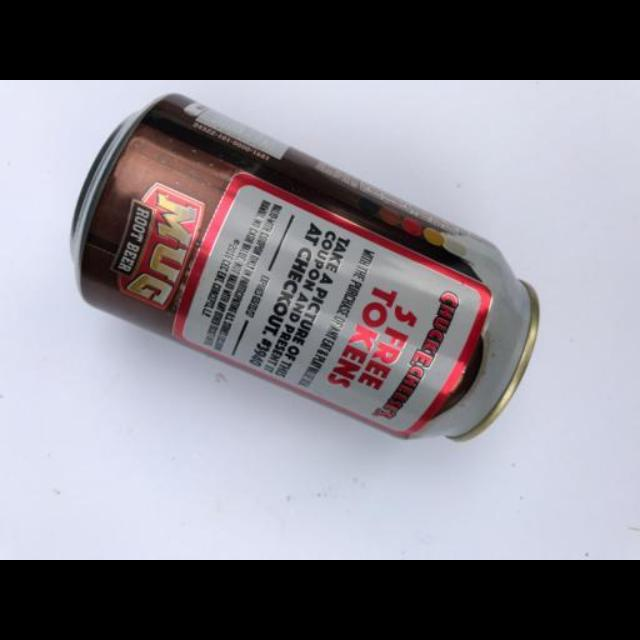lata: (70, 88, 542, 446)
